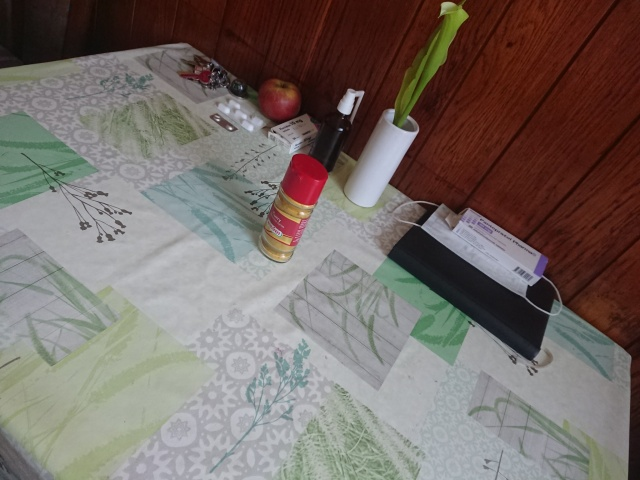Kotanyi Curry Spices Mix 70g: (255, 152, 331, 267)
